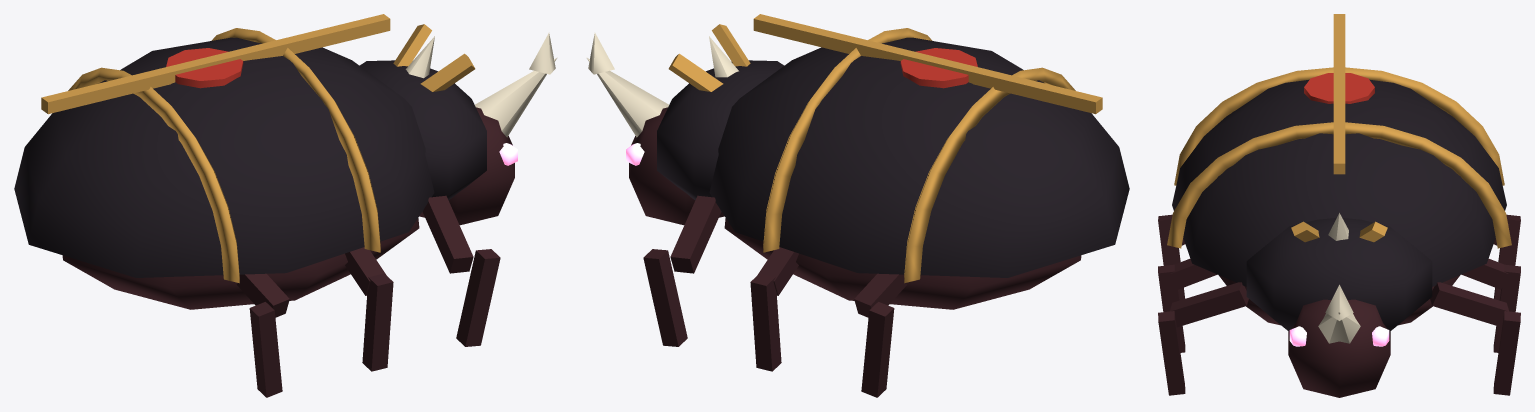
The model's file is enemy_ramBeetle.glb.
3 views of the same model, side by side, from view 1: azimuth 30°, elevation 25°; view 2: azimuth 150°, elevation 25°; view 3: azimuth 270°, elevation 25° (orthographic). The views are drawn at different scales.
Visible parts, largest first — view 1: shell, pronotum, underside, shell_seam, shell_band_1, shell_band_0, head, leg_r0_tibia, leg_r1_tibia, leg_r2_tibia, leg_r0_femur, horn (+7 smaller); view 2: shell, pronotum, underside, shell_seam, shell_band_1, shell_band_0, head, leg_l0_tibia, leg_l1_tibia, leg_l2_tibia, leg_l0_femur, horn (+7 smaller); view 3: shell, pronotum, head, shell_band_0, shell_band_1, shell_seam, leg_l0_femur, leg_r0_femur, leg_l0_tibia, leg_r0_tibia, mon, horn (+11 smaller).
Boxes of the visible parts, left/top/right/bottom form: shell: left=14, top=37, right=434, bottom=277; pronotum: left=359, top=60, right=486, bottom=212; underside: left=62, top=218, right=419, bottom=309; shell_seam: left=41, top=14, right=390, bottom=114; shell_band_1: left=68, top=67, right=239, bottom=283; shell_band_0: left=211, top=28, right=380, bottom=252; head: left=419, top=107, right=514, bottom=225; leg_r0_tibia: left=456, top=249, right=500, bottom=346; leg_r1_tibia: left=362, top=273, right=393, bottom=371; leg_r2_tibia: left=249, top=302, right=282, bottom=397; leg_r0_femur: left=423, top=195, right=473, bottom=273; horn: left=475, top=57, right=557, bottom=137; shell: left=709, top=37, right=1129, bottom=277; pronotum: left=657, top=60, right=784, bottom=212; underside: left=724, top=218, right=1081, bottom=309; shell_seam: left=753, top=14, right=1102, bottom=114; shell_band_1: left=904, top=67, right=1075, bottom=283; shell_band_0: left=763, top=28, right=932, bottom=252; head: left=629, top=107, right=724, bottom=225; leg_l0_tibia: left=643, top=249, right=687, bottom=346; leg_l1_tibia: left=750, top=273, right=781, bottom=371; leg_l2_tibia: left=861, top=302, right=894, bottom=397; leg_l0_femur: left=670, top=195, right=720, bottom=273; horn: left=586, top=57, right=668, bottom=137; shell: left=1172, top=79, right=1506, bottom=286; pronotum: left=1246, top=218, right=1432, bottom=331; head: left=1288, top=299, right=1390, bottom=397; shell_band_0: left=1167, top=122, right=1511, bottom=248; shell_band_1: left=1174, top=67, right=1504, bottom=185; shell_seam: left=1333, top=14, right=1345, bottom=174; leg_l0_femur: left=1430, top=282, right=1508, bottom=327; leg_r0_femur: left=1170, top=282, right=1248, bottom=327; leg_l0_tibia: left=1493, top=311, right=1520, bottom=395; leg_r0_tibia: left=1158, top=311, right=1185, bottom=395; mon: left=1304, top=73, right=1374, bottom=103; horn: left=1318, top=312, right=1360, bottom=343.
Size of the model in its own units: 0.4635 by 0.2172 by 0.3071.
